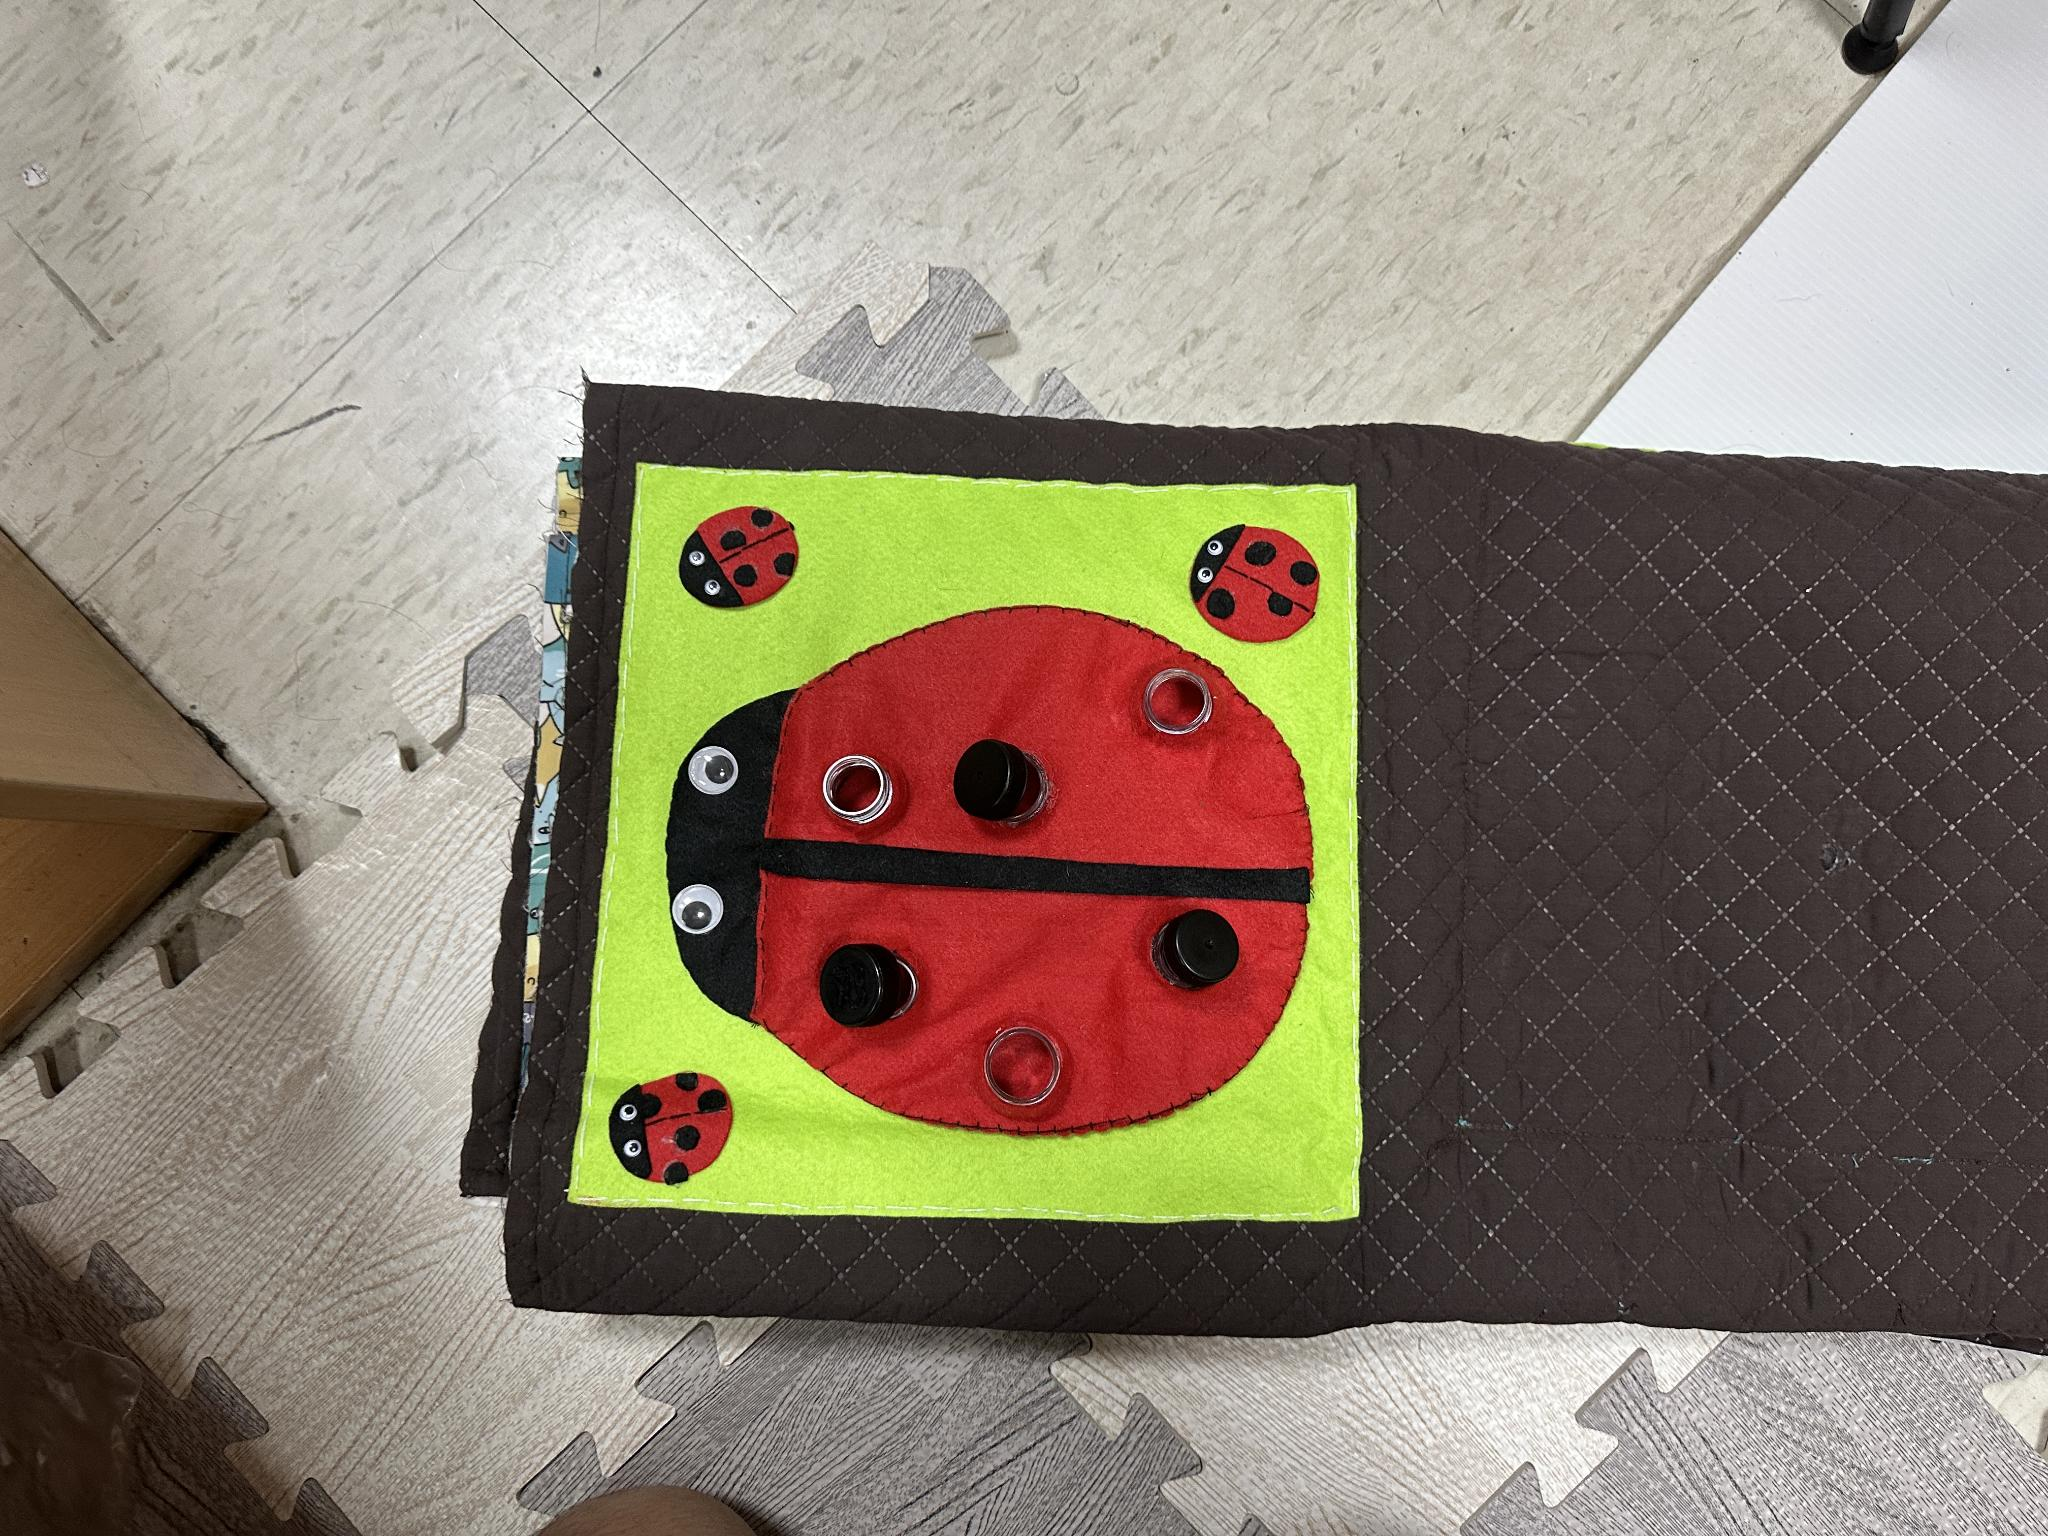cap_ng: (813, 933, 930, 1034), (951, 731, 1064, 834), (1150, 902, 1250, 997)
